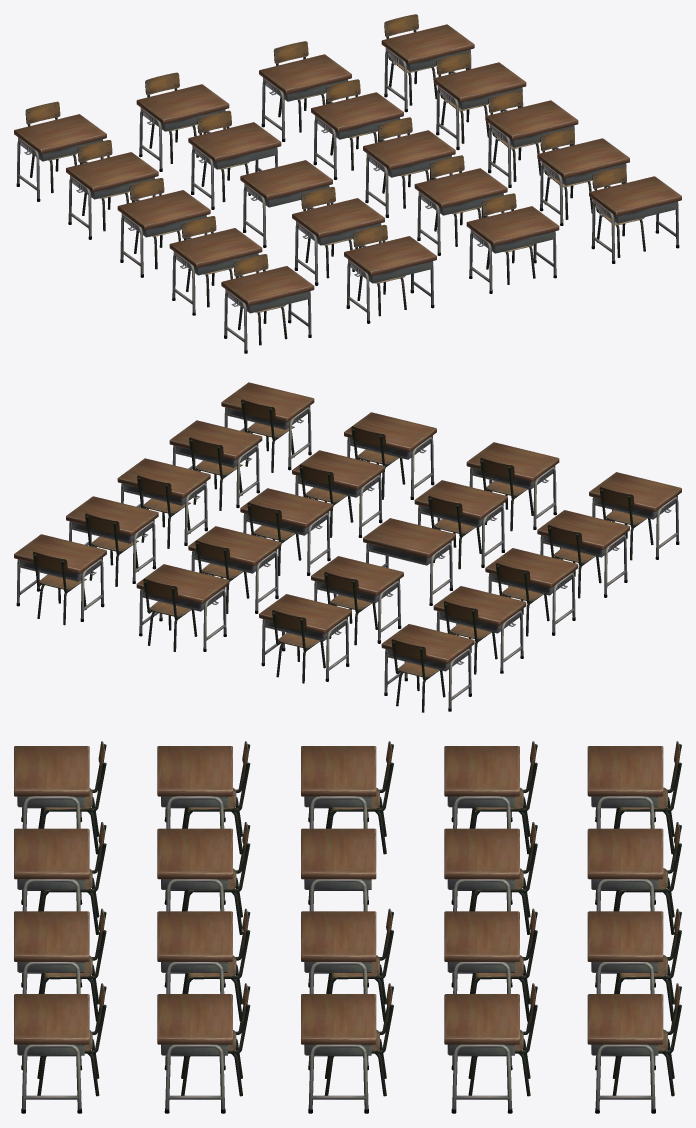
Rendered from Chairs_and_Tables 1.fbx.
The picture shows the model from 3 angles, top to bottom: view 1: azimuth 30°, elevation 25°; view 2: azimuth 150°, elevation 25°; view 3: azimuth 270°, elevation 25°; orthographic projection. The views are drawn at different scales.
Parts seen in each view (by area): view 1: Cube, chair.004|chair_L_chair.blend|Dupli|, chair.003|chair_L_chair.blend|Dupli|, chair.002|chair_L_chair.blend|Dupli|, chair.001|chair_L_chair.blend|Dupli|, chair|chair_L_chair.blend|Dupli|, chair.019|chair_L_chair.blend|Dupli|, chair.014|chair_L_chair.blend|Dupli|, chair.009|chair_L_chair.blend|Dupli|, chair.011|chair_L_chair.blend|Dupli|, chair.013|chair_L_chair.blend|Dupli|, chair.010|chair_L_chair.blend|Dupli| (+8 smaller); view 2: Cube, chair.005|chair_L_chair.blend|Dupli|, chair.010|chair_L_chair.blend|Dupli|, chair.015|chair_L_chair.blend|Dupli|, chair|chair_L_chair.blend|Dupli|, chair.004|chair_L_chair.blend|Dupli|, chair.001|chair_L_chair.blend|Dupli|, chair.003|chair_L_chair.blend|Dupli|, chair.002|chair_L_chair.blend|Dupli|, chair.011|chair_L_chair.blend|Dupli|, chair.013|chair_L_chair.blend|Dupli|, chair.014|chair_L_chair.blend|Dupli| (+8 smaller); view 3: Cube, chair.005|chair_L_chair.blend|Dupli|, chair.006|chair_L_chair.blend|Dupli|, chair.007|chair_L_chair.blend|Dupli|, chair.008|chair_L_chair.blend|Dupli|, chair.009|chair_L_chair.blend|Dupli|, chair.015|chair_L_chair.blend|Dupli|, chair.019|chair_L_chair.blend|Dupli|, chair.017|chair_L_chair.blend|Dupli|, chair.016|chair_L_chair.blend|Dupli|, chair.018|chair_L_chair.blend|Dupli|, chair.010|chair_L_chair.blend|Dupli| (+8 smaller).
Part boxes in pixels (bbox=[...]): Cube: bbox=[14, 24, 681, 353]; chair.004|chair_L_chair.blend|Dupli|: bbox=[592, 166, 645, 257]; chair.003|chair_L_chair.blend|Dupli|: bbox=[540, 128, 592, 219]; chair.002|chair_L_chair.blend|Dupli|: bbox=[488, 90, 540, 181]; chair.001|chair_L_chair.blend|Dupli|: bbox=[436, 52, 488, 143]; chair|chair_L_chair.blend|Dupli|: bbox=[384, 14, 436, 105]; chair.019|chair_L_chair.blend|Dupli|: bbox=[233, 254, 287, 345]; chair.014|chair_L_chair.blend|Dupli|: bbox=[353, 225, 406, 316]; chair.009|chair_L_chair.blend|Dupli|: bbox=[482, 193, 535, 284]; chair.011|chair_L_chair.blend|Dupli|: bbox=[197, 110, 250, 202]; chair.013|chair_L_chair.blend|Dupli|: bbox=[301, 187, 354, 278]; chair.010|chair_L_chair.blend|Dupli|: bbox=[145, 72, 198, 163]; Cube: bbox=[14, 382, 681, 711]; chair.005|chair_L_chair.blend|Dupli|: bbox=[143, 578, 197, 651]; chair.010|chair_L_chair.blend|Dupli|: bbox=[272, 610, 325, 683]; chair.015|chair_L_chair.blend|Dupli|: bbox=[391, 639, 445, 712]; chair|chair_L_chair.blend|Dupli|: bbox=[33, 551, 86, 625]; chair.004|chair_L_chair.blend|Dupli|: bbox=[241, 399, 294, 472]; chair.001|chair_L_chair.blend|Dupli|: bbox=[85, 513, 138, 586]; chair.003|chair_L_chair.blend|Dupli|: bbox=[189, 437, 242, 510]; chair.002|chair_L_chair.blend|Dupli|: bbox=[137, 475, 190, 548]; chair.011|chair_L_chair.blend|Dupli|: bbox=[324, 571, 377, 645]; chair.013|chair_L_chair.blend|Dupli|: bbox=[428, 495, 481, 569]; chair.014|chair_L_chair.blend|Dupli|: bbox=[480, 457, 533, 531]; Cube: bbox=[14, 746, 663, 1113]; chair.005|chair_L_chair.blend|Dupli|: bbox=[614, 908, 681, 1021]; chair.006|chair_L_chair.blend|Dupli|: bbox=[470, 908, 537, 1021]; chair.007|chair_L_chair.blend|Dupli|: bbox=[326, 908, 393, 1021]; chair.008|chair_L_chair.blend|Dupli|: bbox=[182, 908, 250, 1021]; chair.009|chair_L_chair.blend|Dupli|: bbox=[38, 908, 106, 1021]; chair.015|chair_L_chair.blend|Dupli|: bbox=[614, 741, 681, 854]; chair.019|chair_L_chair.blend|Dupli|: bbox=[38, 741, 106, 854]; chair.017|chair_L_chair.blend|Dupli|: bbox=[326, 741, 393, 854]; chair.016|chair_L_chair.blend|Dupli|: bbox=[469, 741, 537, 854]; chair.018|chair_L_chair.blend|Dupli|: bbox=[182, 741, 250, 854]; chair.010|chair_L_chair.blend|Dupli|: bbox=[613, 822, 681, 934].
Size of the model in its own units: 662 by 98.11 by 635.
